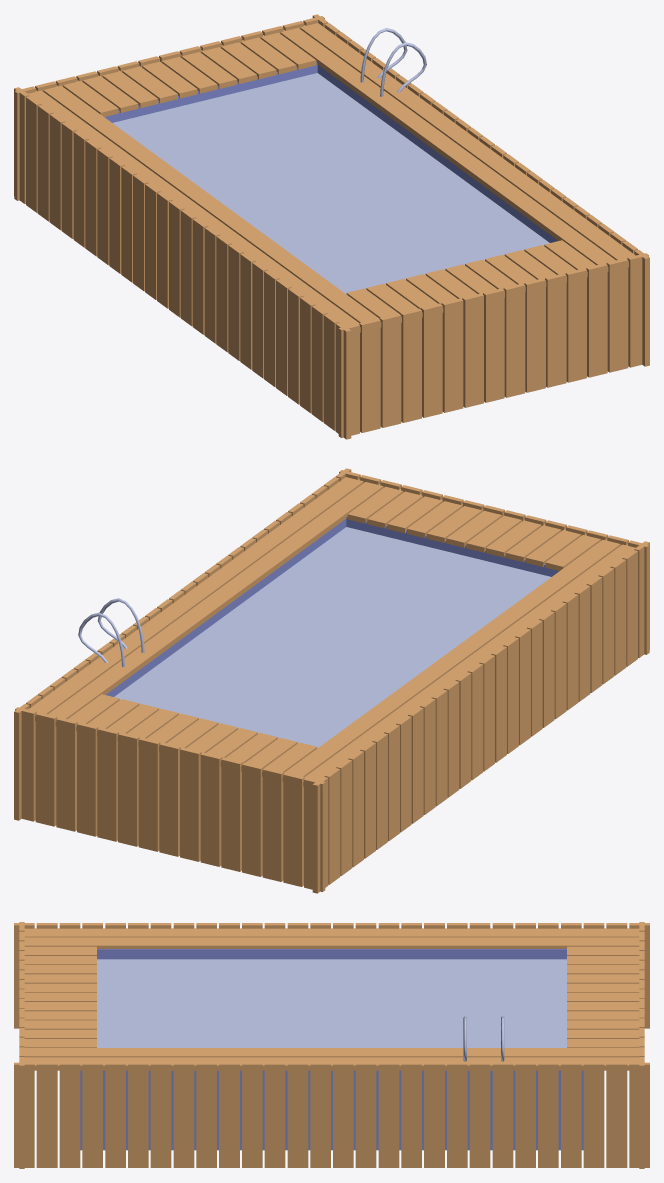
The model's file is wooden_pool.gltf.
The picture shows the model from 3 angles, top to bottom: view 1: azimuth 30°, elevation 25°; view 2: azimuth 150°, elevation 25°; view 3: azimuth 270°, elevation 25°; orthographic projection. The views are drawn at different scales.
Visible parts, largest first — view 1: wooden_pool; view 2: wooden_pool; view 3: wooden_pool.
Part boxes in pixels (x1,y1,x2,y2): wooden_pool: [14, 14, 649, 439]; wooden_pool: [14, 468, 649, 893]; wooden_pool: [14, 922, 649, 1168].
Bounding box in the file's own units: 3.16 × 1.45 × 5.71.
